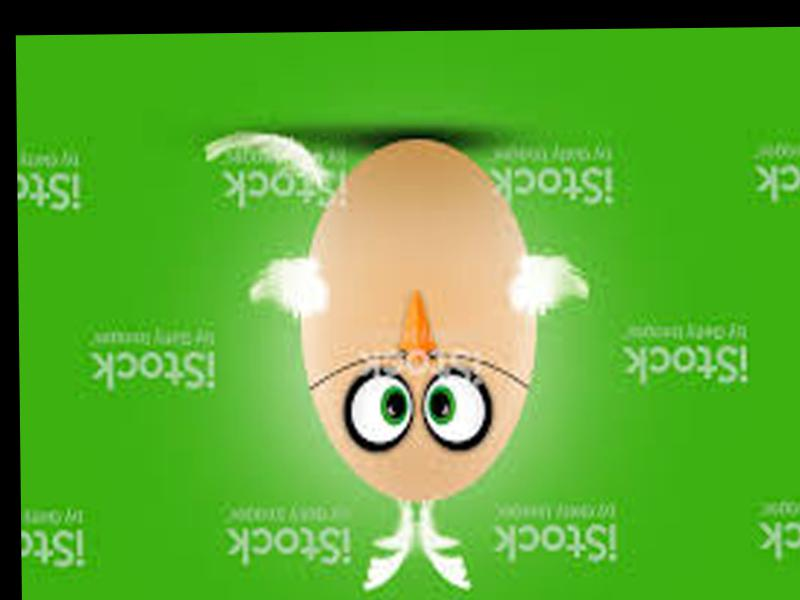Eggs: (298, 134, 535, 503)
